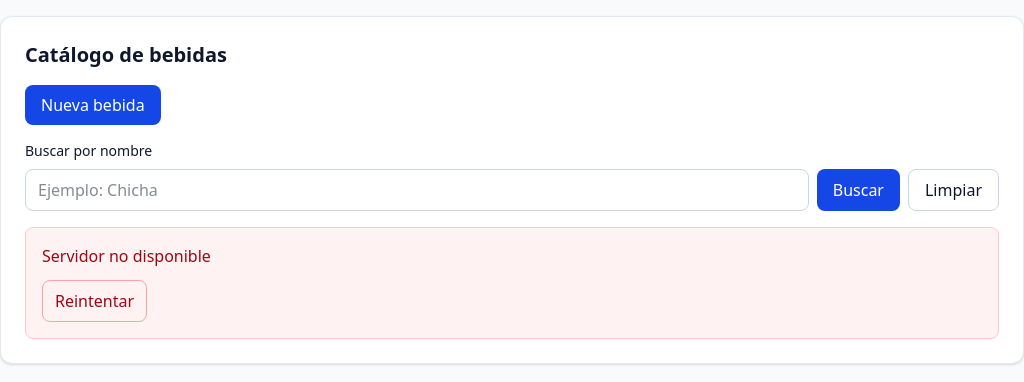
Test: Catálogo y formulario › muestra el error de conexión y permite reintentar
Check: the message shows "Servidor no disponible", box x1=42 y1=245 x2=211 y2=267
Click the button "Reintentar": click(94, 301) x1=42 y1=280 x2=147 y2=322
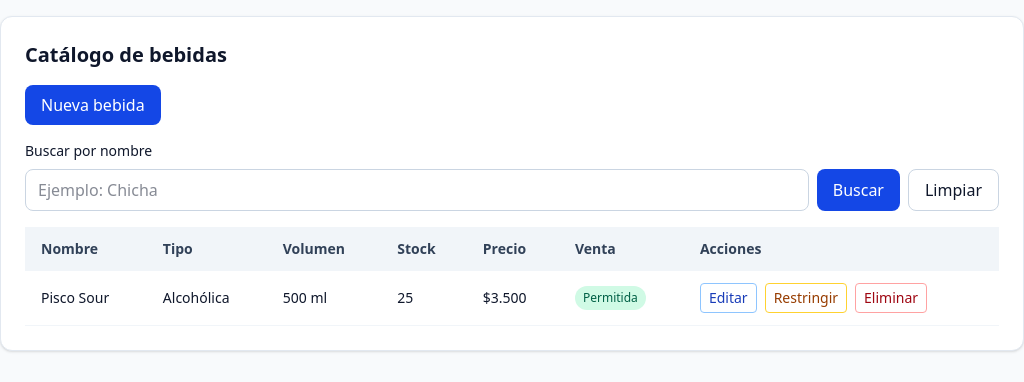
Check: the text "Pisco Sour" is shown, box x1=25 y1=271 x2=147 y2=326
